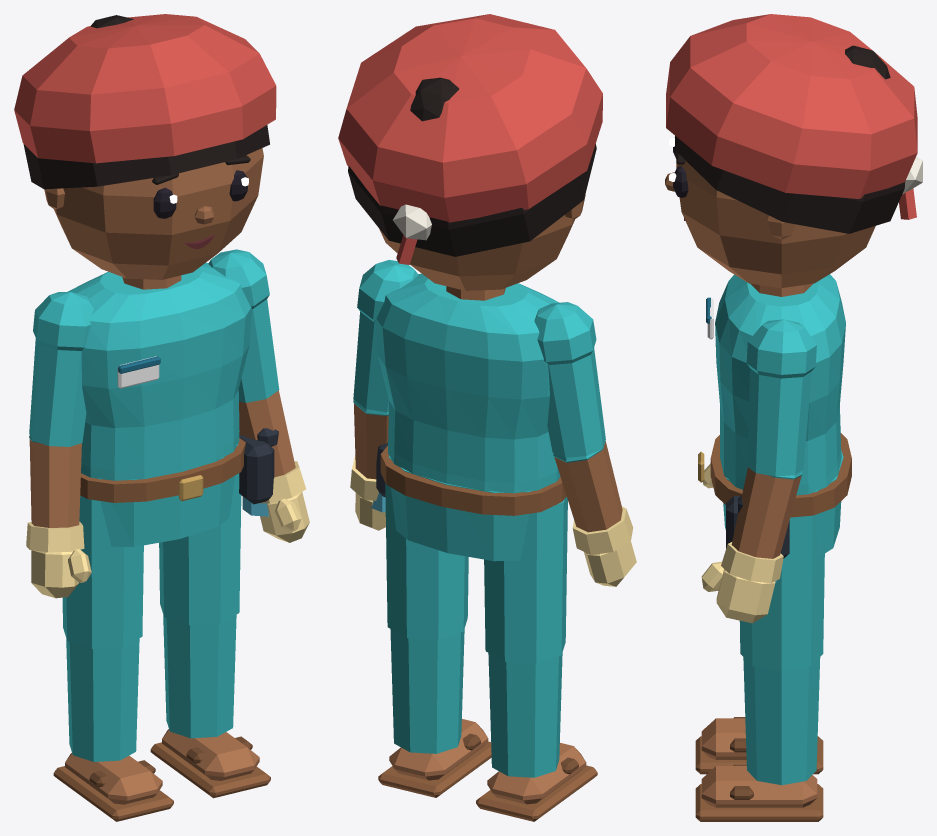
File: rei_pel.glb
The picture shows the model from 3 angles, left to right: view 1: azimuth 30°, elevation 25°; view 2: azimuth 150°, elevation 25°; view 3: azimuth 270°, elevation 25°; orthographic projection.
Visible parts, largest first — view 1: kopfbedeckung, torso, bein_r, kopf, bein_l, arm_r, arm_l, haare, becken, schuh_r, schuh_l, gürtel (+5 smaller); view 2: kopfbedeckung, torso, bein_r, bein_l, arm_r, haare, arm_l, becken, kopf, schuh_r, gürtel, schuh_l (+3 smaller); view 3: kopfbedeckung, bein_l, arm_l, torso, kopf, haare, schuh_l, gürtel, hand_l, schuh_r, becken, accessoire_sprayholster (+2 smaller).
Part boxes in pixels (bbox=[...]): kopfbedeckung: bbox=[14, 14, 276, 163]; torso: bbox=[67, 262, 251, 480]; bein_r: bbox=[62, 495, 143, 761]; kopf: bbox=[44, 148, 263, 279]; bein_l: bbox=[159, 473, 241, 738]; arm_r: bbox=[26, 292, 93, 552]; arm_l: bbox=[208, 249, 305, 503]; haare: bbox=[23, 15, 269, 189]; becken: bbox=[97, 444, 238, 547]; schuh_r: bbox=[53, 753, 173, 821]; schuh_l: bbox=[150, 729, 270, 798]; gürtel: bbox=[80, 438, 245, 502]; kopfbedeckung: bbox=[338, 14, 602, 264]; torso: bbox=[375, 273, 560, 493]; bein_r: bbox=[484, 496, 567, 777]; bein_l: bbox=[385, 483, 468, 753]; arm_r: bbox=[534, 302, 633, 554]; haare: bbox=[348, 77, 596, 256]; arm_l: bbox=[350, 260, 418, 500]; becken: bbox=[388, 456, 532, 561]; kopf: bbox=[379, 194, 585, 290]; schuh_r: bbox=[476, 743, 597, 821]; gürtel: bbox=[380, 445, 566, 515]; schuh_l: bbox=[378, 719, 491, 797]; kopfbedeckung: bbox=[666, 14, 922, 219]; bein_l: bbox=[739, 514, 824, 785]; arm_l: bbox=[721, 319, 816, 582]; torso: bbox=[715, 274, 845, 495]; kopf: bbox=[676, 160, 875, 287]; haare: bbox=[675, 45, 905, 233]; schuh_l: bbox=[695, 764, 823, 821]; gürtel: bbox=[698, 433, 851, 517]; hand_l: bbox=[701, 561, 775, 623]; schuh_r: bbox=[695, 717, 823, 774]; becken: bbox=[723, 451, 843, 556]; accessoire_sprayholster: bbox=[726, 495, 789, 582].
Bounding box in the file's own units: 0.00962 × 0.025 × 0.00776.
